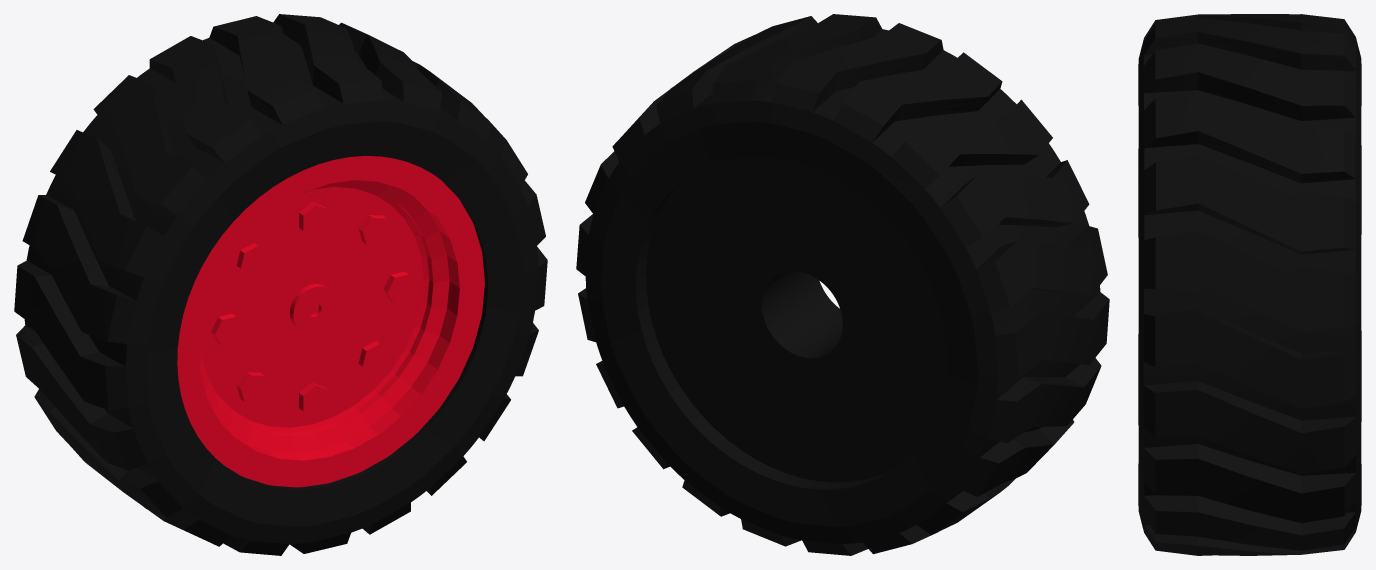
3 renders of one model, left to right at view 1: azimuth 30°, elevation 25°; view 2: azimuth 150°, elevation 25°; view 3: azimuth 270°, elevation 25°, orthographic. The views are drawn at different scales.
Visible parts, largest first — view 1: rubber, plastic; view 2: rubber; view 3: rubber.
Boxes of the visible parts, bbox=[...] form: rubber: bbox=[14, 14, 547, 555]; plastic: bbox=[177, 156, 484, 487]; rubber: bbox=[576, 14, 1109, 555]; rubber: bbox=[1138, 14, 1361, 555].
Bounding box in the file's own units: 0.0424 × 0.0424 × 0.0175.
